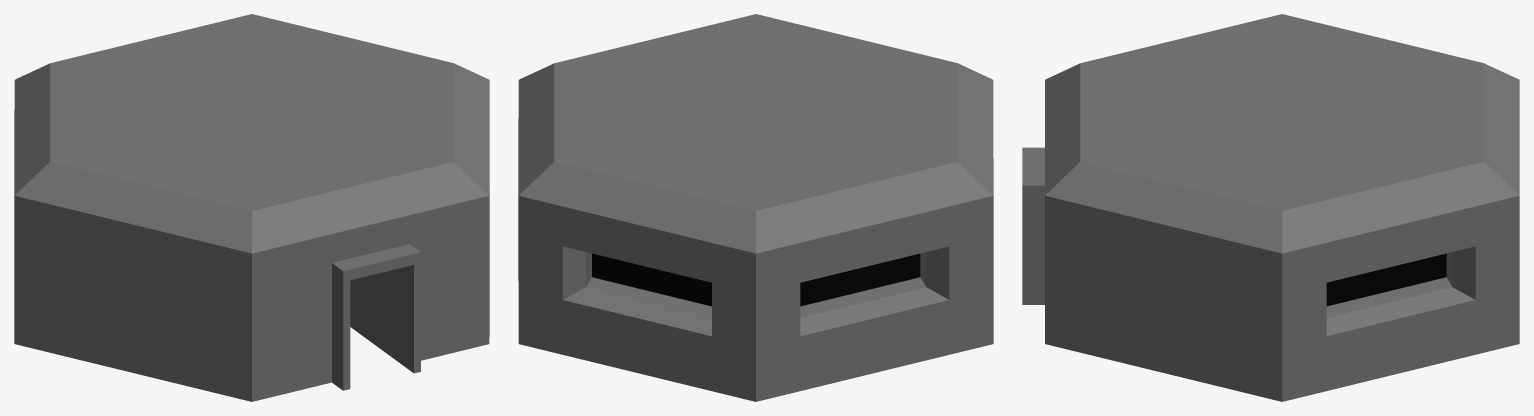
Rendered from machinegunner_tiers.fbx.
The picture shows the model from 3 angles, left to right: view 1: azimuth 30°, elevation 25°; view 2: azimuth 150°, elevation 25°; view 3: azimuth 270°, elevation 25°; orthographic projection.
Visible parts, largest first — view 1: machinegun_dot_t3; view 2: machinegun_dot_t3; view 3: machinegun_dot_t3.
Boxes of the visible parts, bbox=[...] form: machinegun_dot_t3: bbox=[14, 14, 489, 401]; machinegun_dot_t3: bbox=[518, 14, 993, 401]; machinegun_dot_t3: bbox=[1022, 14, 1519, 401].
Size of the model in its own units: 1308 by 461 by 1186.
6 materials, 5 textured.
